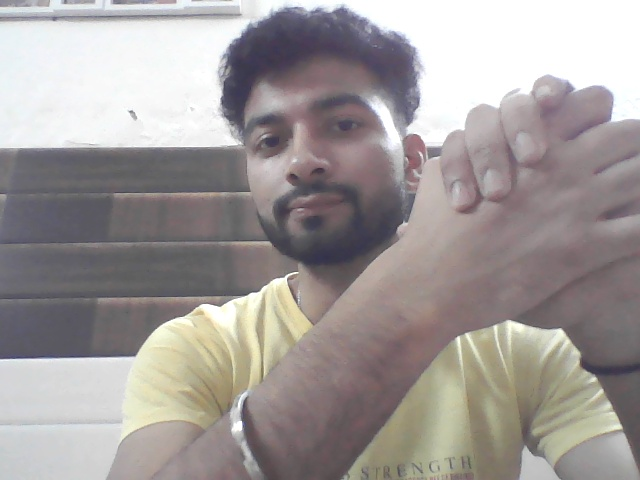Thank You: (410, 45, 640, 405)
